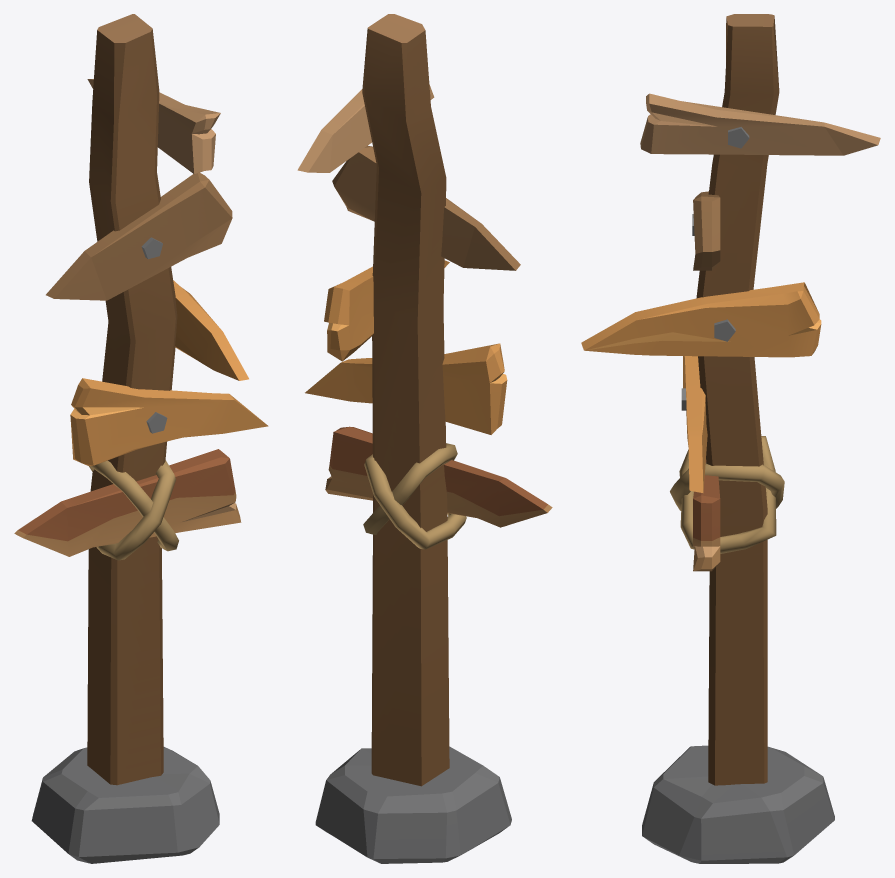
The model's file is Signpost_G.fbx.
The picture shows the model from 3 angles, left to right: view 1: azimuth 30°, elevation 25°; view 2: azimuth 150°, elevation 25°; view 3: azimuth 270°, elevation 25°; orthographic projection. The views are drawn at different scales.
Parts seen in each view (by area): view 1: Signpost_G; view 2: Signpost_G; view 3: Signpost_G.
Part boxes in pixels (bbox=[...]): Signpost_G: bbox=[14, 14, 268, 863]; Signpost_G: bbox=[297, 14, 552, 863]; Signpost_G: bbox=[581, 14, 880, 863].
Bounding box in the file's own units: 107 × 334 × 111.
